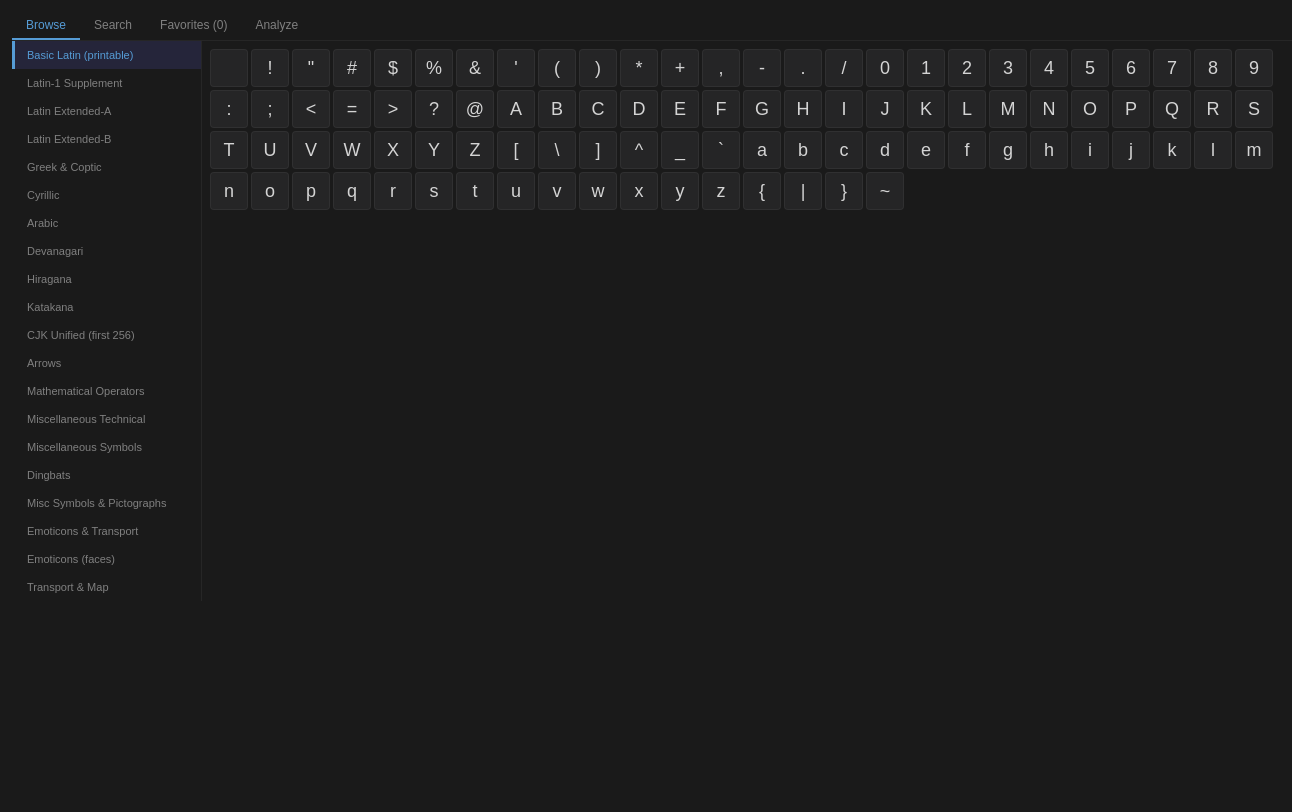
Test case: UnicodePanel — input analyzer › Given mixed BMP and supplementary text, then it reports code points and UTF-8 bytes
Click the button "Analyze".
click(277, 26)  # box [241, 12, 312, 40]
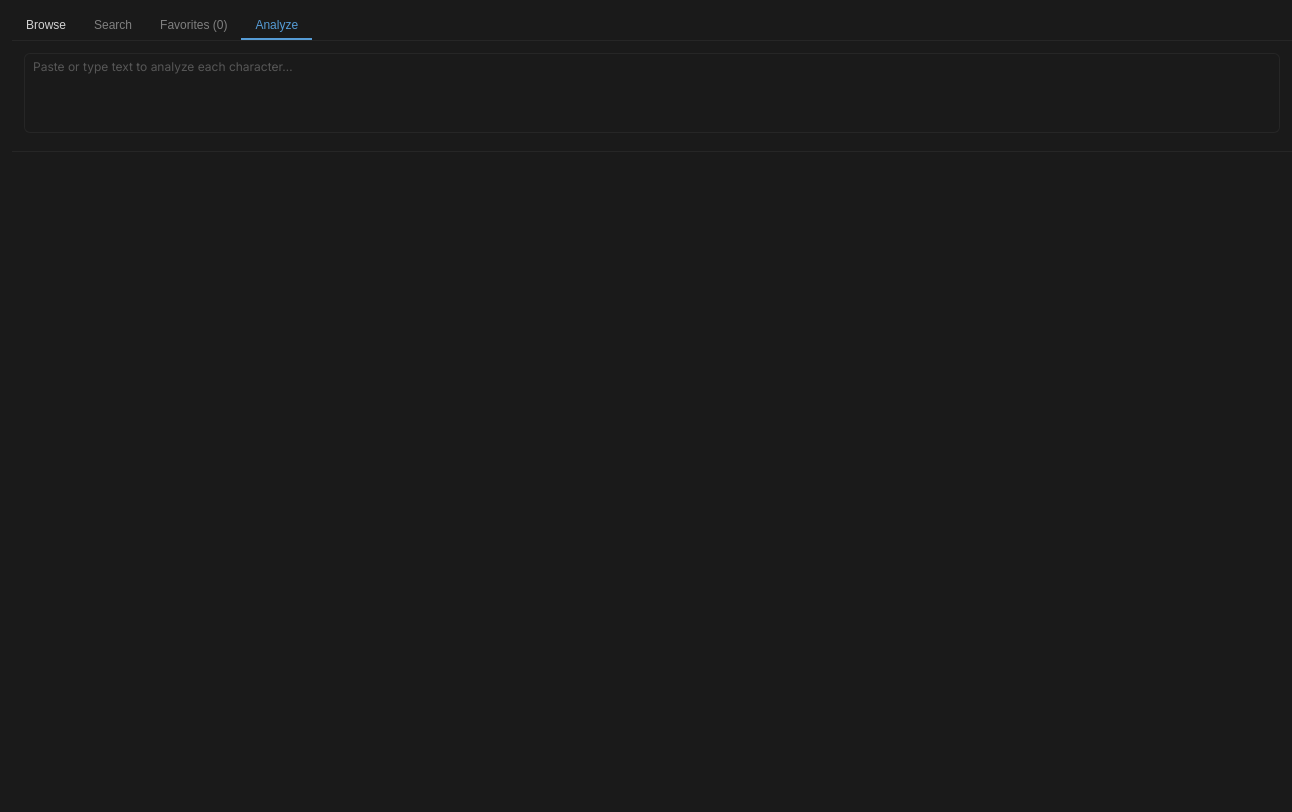
Type "A🚀é" into the text box with placeholder "Paste or type text to analyze each character…".
click(652, 93); type("A🚀é")  # box [24, 53, 1280, 133]
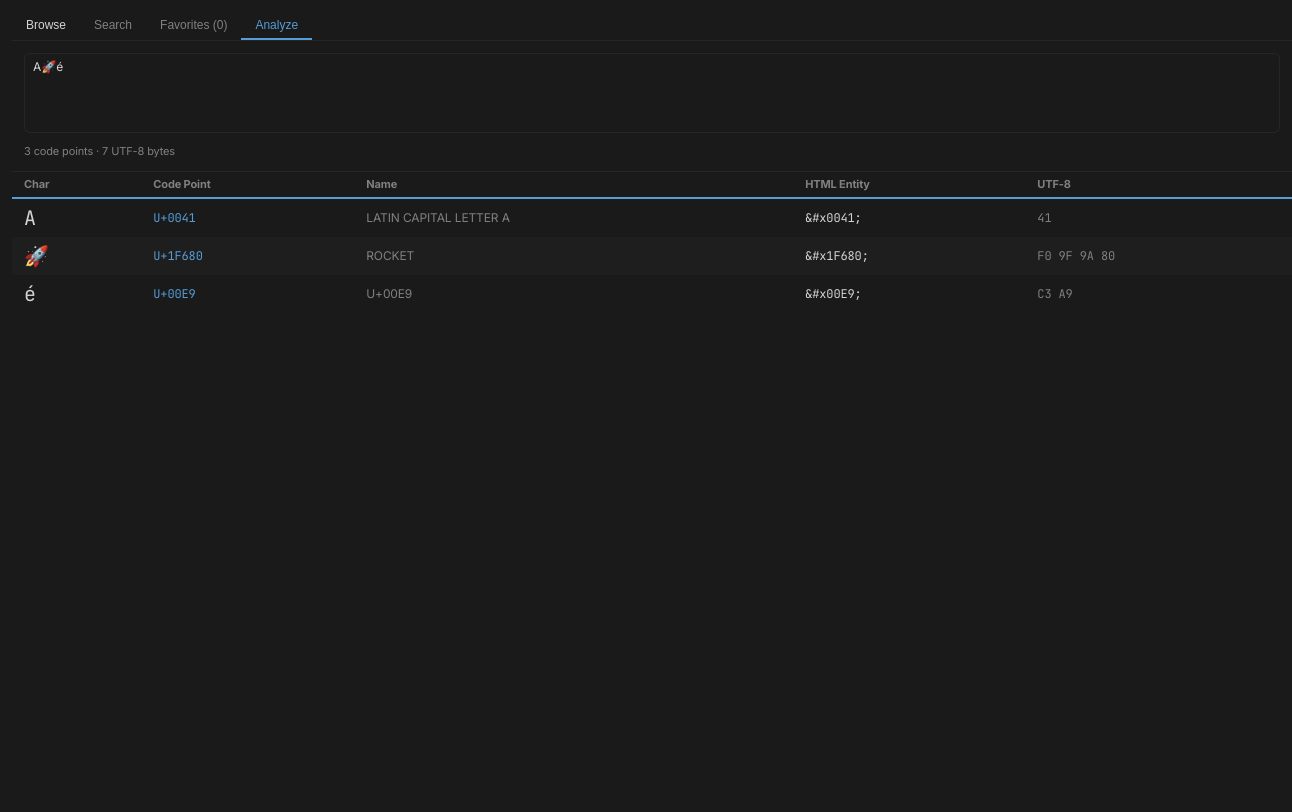
Now the text "3 code points · 7 UTF-8 bytes" is shown, box [24, 144, 175, 158]
Now the cell "U+1F680" is shown, box [141, 236, 354, 274]
Now the cell "F0 9F 9A 80" is shown, box [1025, 236, 1291, 274]
